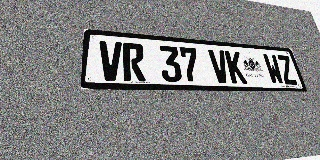3: (159, 45, 182, 82)
7: (178, 47, 202, 83)
K: (224, 51, 247, 84)
R: (122, 42, 146, 81)
V: (99, 41, 123, 81), (208, 49, 231, 83)
W: (262, 54, 285, 85)
Z: (276, 55, 298, 85)
